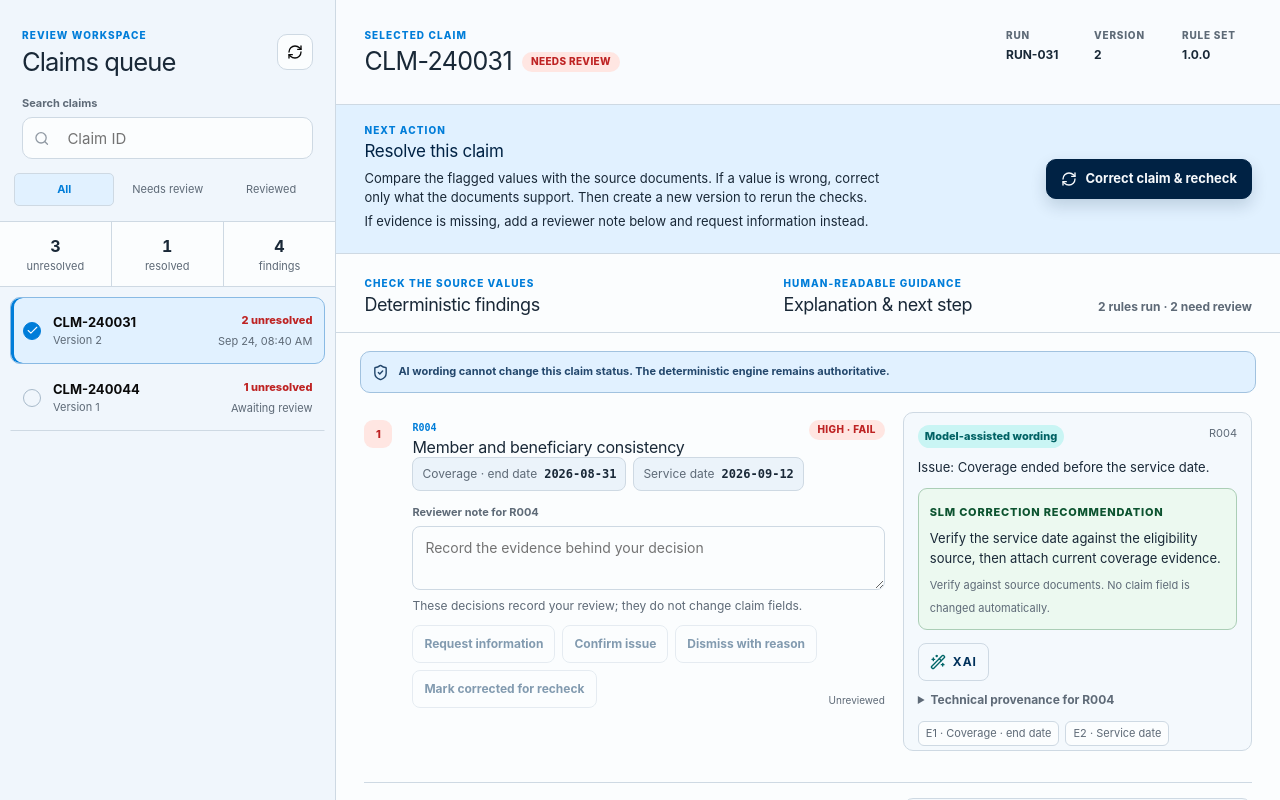
Test: ReviewCockpit › keeps technical provenance behind a disclosure
Expected: the text "benchmark-candidate" is not shown
Click the heading "Technical provenance for R004" at (1022, 700), box 930,692 -> 1114,707
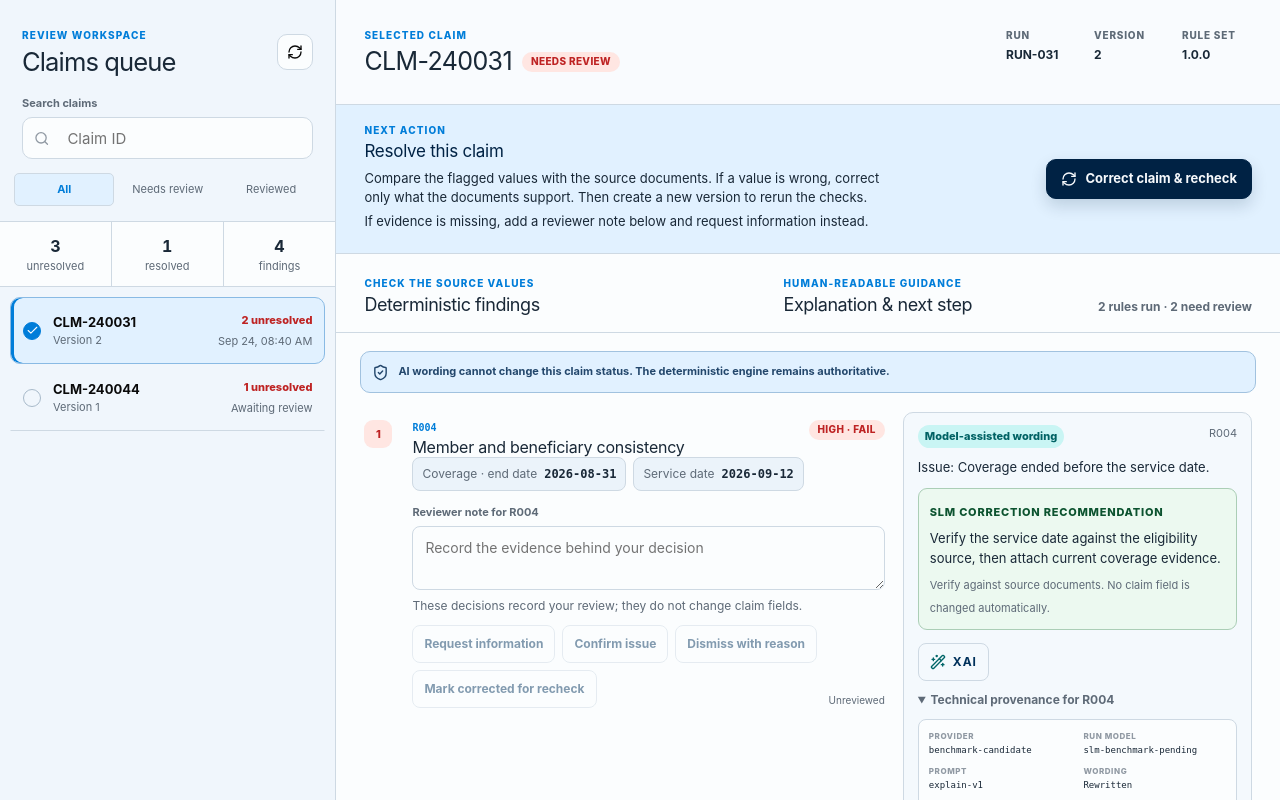
Now the text "benchmark-candidate" is shown, box 929,745 -> 1032,755
